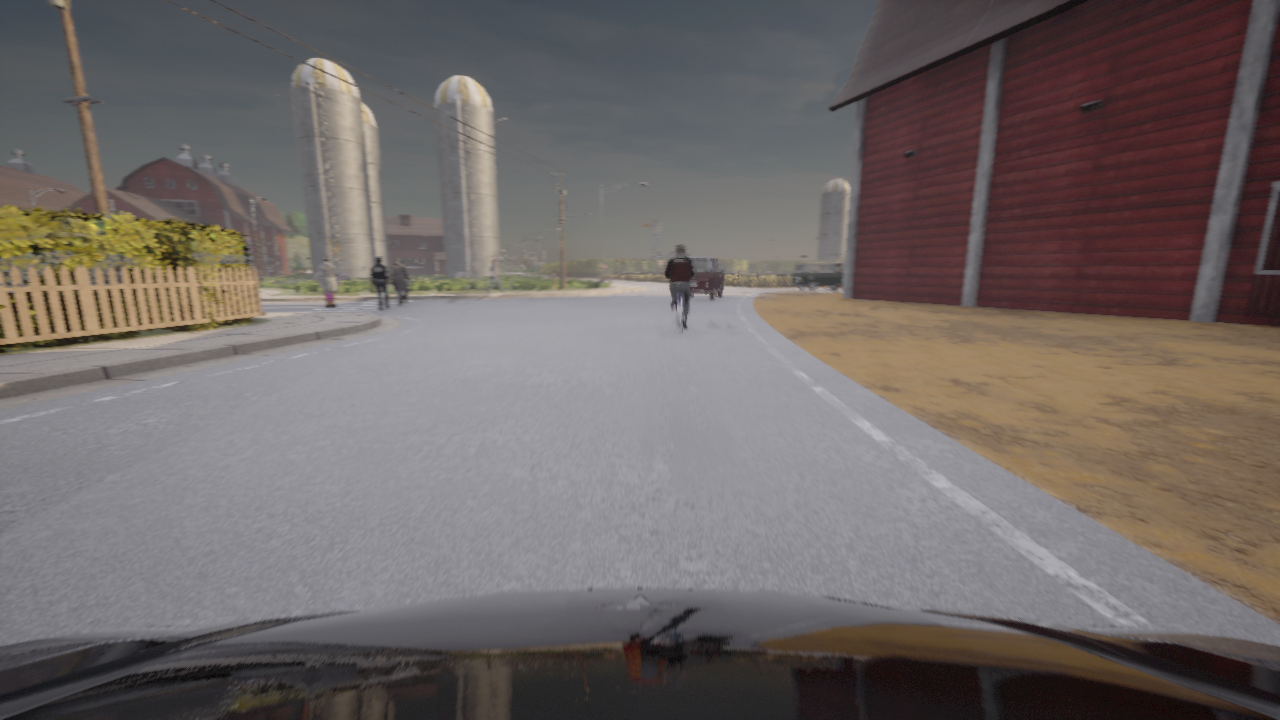cyclist: (0, 588, 1279, 719), (686, 256, 725, 299), (792, 262, 844, 290), (672, 292, 687, 333), (320, 269, 349, 280), (295, 267, 312, 274)
pedestrian: (318, 257, 339, 306), (370, 256, 389, 309), (388, 258, 408, 305), (487, 260, 504, 293), (400, 259, 409, 303), (550, 270, 557, 290)
